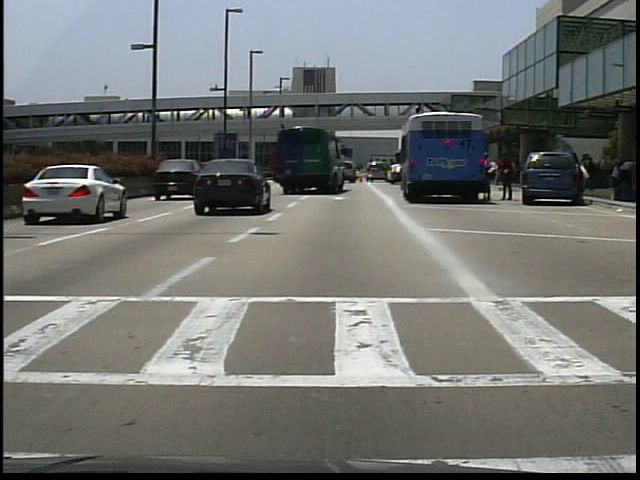person: (480, 151, 497, 203), (497, 154, 513, 201), (576, 160, 593, 201)
